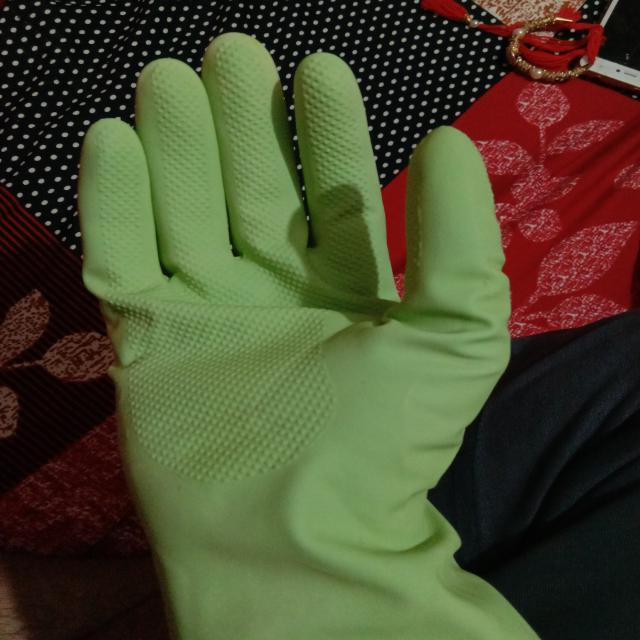gloved_hand: (71, 31, 553, 637)
